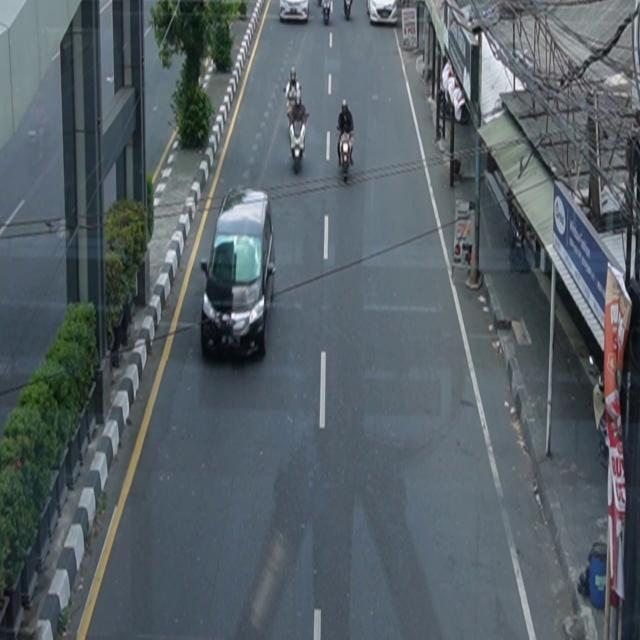car: (201, 186, 277, 361), (367, 1, 398, 26), (280, 1, 310, 24)
